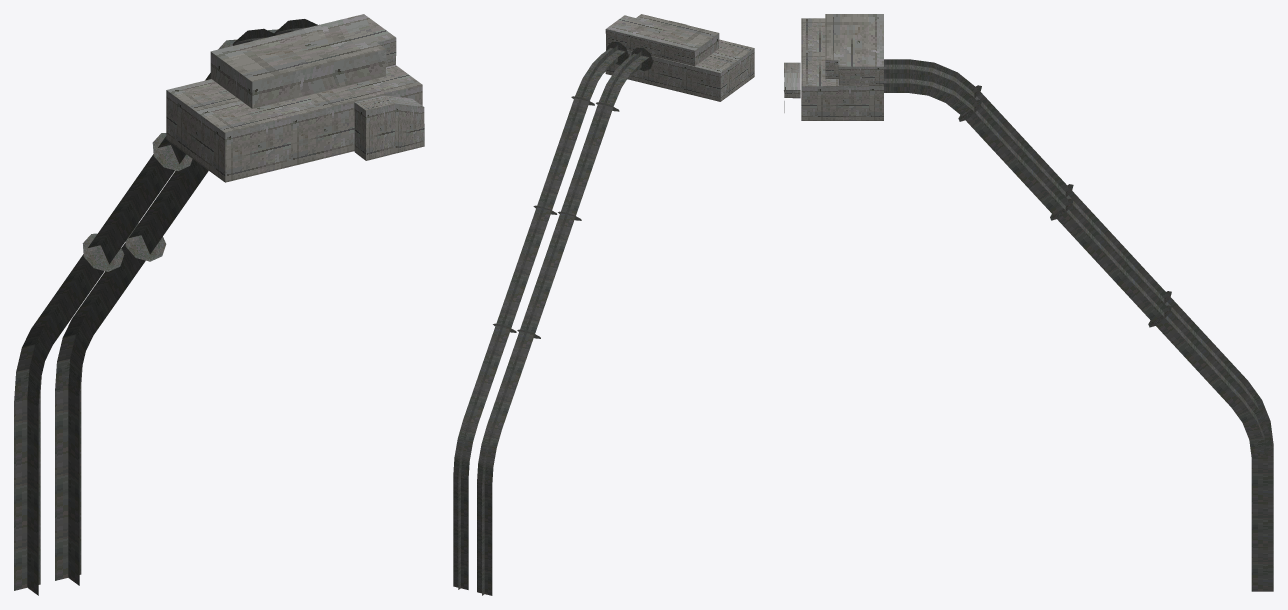
The model's file is lodaspumphouse02.obj.
3 renders of one model, left to right at view 1: azimuth 30°, elevation 25°; view 2: azimuth 150°, elevation 25°; view 3: azimuth 270°, elevation 25°, orthographic. The views are drawn at different scales.
Parts seen in each view (by area): view 1: lodaspumphouse02; view 2: lodaspumphouse02; view 3: lodaspumphouse02.
Boxes of the visible parts, x1,y1,x2,y2 form: lodaspumphouse02: (14, 14, 424, 595); lodaspumphouse02: (453, 14, 754, 595); lodaspumphouse02: (784, 14, 1273, 591).
Size of the model in its own units: 28.51 by 104 by 87.11.
Materials: 2 (2 with a texture image).
